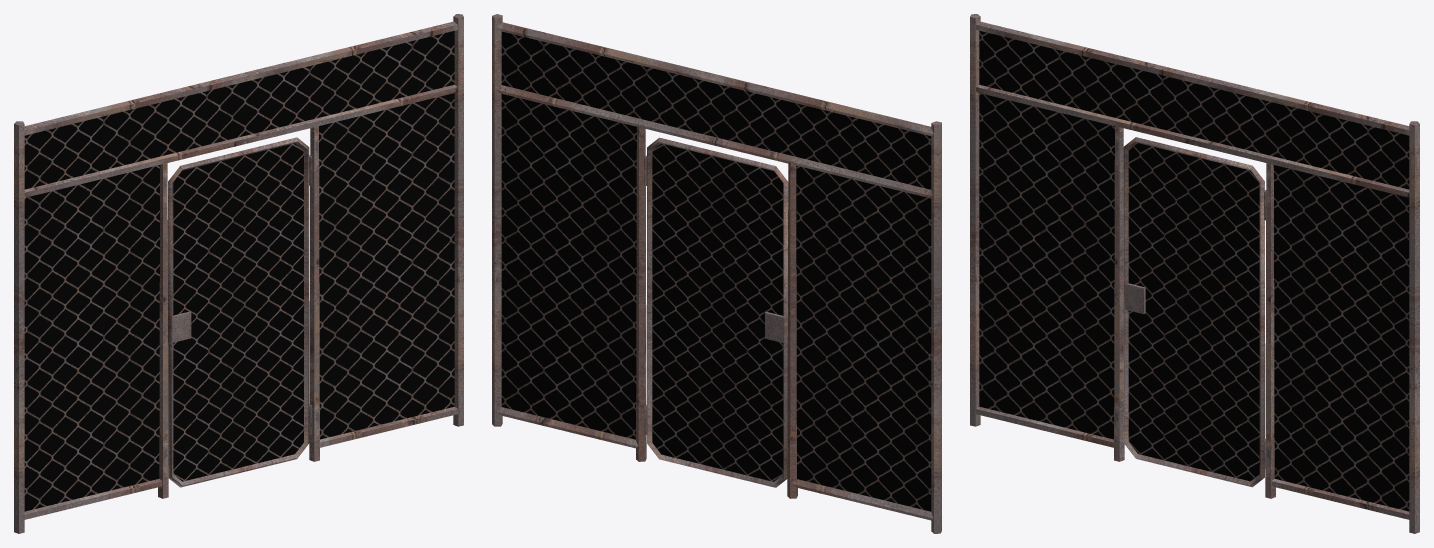
Rendered from fence_door.glb.
3 renders of one model, left to right at view 1: azimuth 30°, elevation 25°; view 2: azimuth 150°, elevation 25°; view 3: azimuth 330°, elevation 25°, orthographic.
Parts seen in each view (by area): view 1: Fence_03, Fence_03_Door; view 2: Fence_03, Fence_03_Door; view 3: Fence_03, Fence_03_Door.
Part boxes in pixels (x1,y1,x2,y2): Fence_03: (14,14,463,533); Fence_03_Door: (168,137,312,487); Fence_03: (492,14,941,533); Fence_03_Door: (644,137,788,487); Fence_03: (970,14,1419,533); Fence_03_Door: (1123,137,1266,487).
Bounding box in the file's own units: 2.46 × 2.14 × 0.0479.
2 materials, 2 textured.
